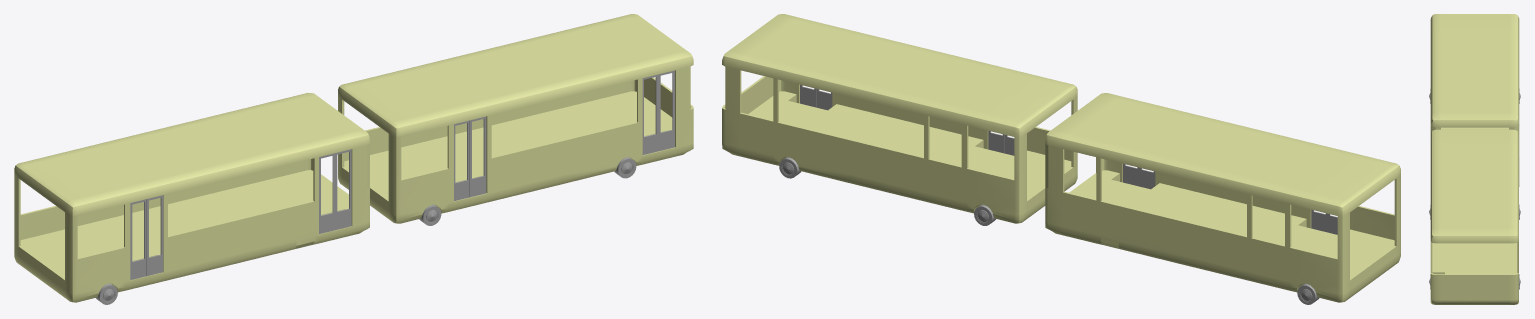
File: Bus.fbx
The picture shows the model from 3 angles, left to right: view 1: azimuth 30°, elevation 25°; view 2: azimuth 150°, elevation 25°; view 3: azimuth 270°, elevation 25°; orthographic projection. The views are drawn at different scales.
Parts seen in each view (by area): view 1: BusEND, BusFRONT, RDEB, RDFB, LDEB, LDEF, RDEF, RDFF, LDFF, LDFB; view 2: BusEND, BusFRONT; view 3: BusFRONT, BusEND.
Boxes of the visible parts, bbox=[...] form: BusEND: bbox=[14, 92, 369, 302]; BusFRONT: bbox=[338, 14, 693, 223]; RDEB: bbox=[146, 195, 163, 275]; RDFB: bbox=[469, 116, 486, 197]; LDEB: bbox=[130, 199, 146, 279]; LDEF: bbox=[319, 153, 335, 233]; RDEF: bbox=[335, 149, 351, 229]; RDFF: bbox=[658, 70, 674, 151]; LDFF: bbox=[642, 74, 658, 154]; LDFB: bbox=[454, 120, 469, 201]; BusEND: bbox=[1045, 93, 1400, 302]; BusFRONT: bbox=[722, 14, 1077, 223]; BusFRONT: bbox=[1430, 129, 1518, 304]; BusEND: bbox=[1430, 14, 1519, 186].
Size of what is drawn, in the model's own units: 0.8922 by 0.1459 by 0.1547.
